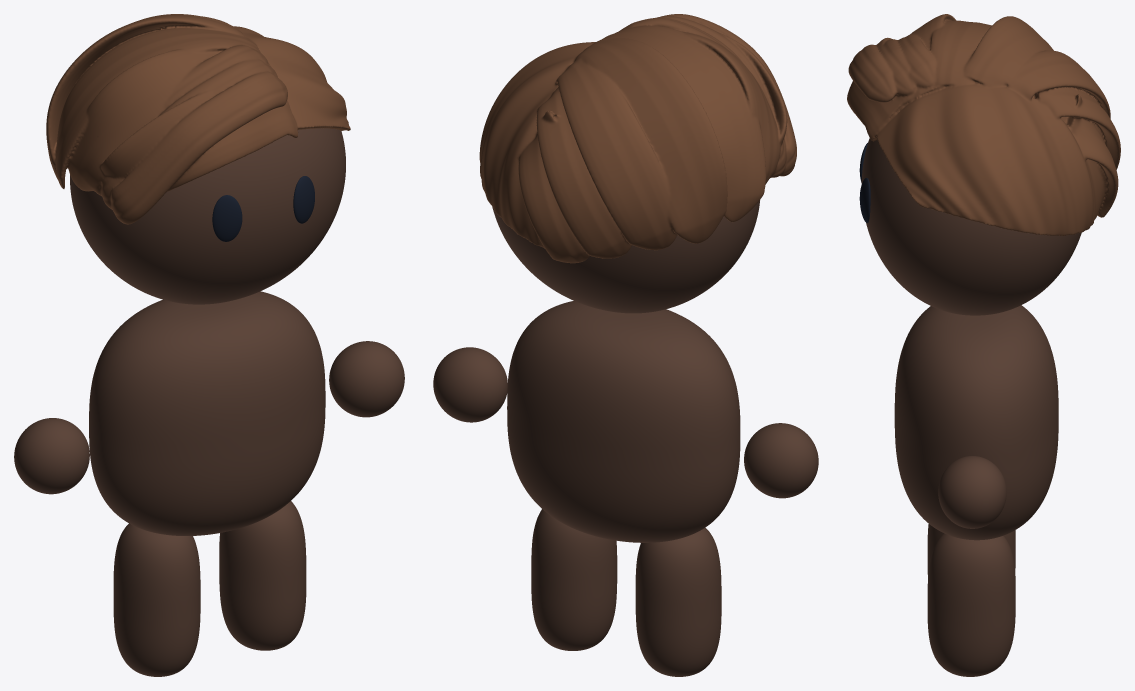
Rendered from Masculine-skin3.glb.
3 views of the same model, side by side, from view 1: azimuth 30°, elevation 25°; view 2: azimuth 150°, elevation 25°; view 3: azimuth 270°, elevation 25° (orthographic). The views are drawn at different scales.
Visible parts, largest first — view 1: Skin / compact torso, Hair / Side part blended sculpt, Skin / soft oval head, Skin / leg -1, Skin / leg 1, Skin / hand 1, Skin / hand -1, Eye / dark oval -1, Eye / dark oval 1; view 2: Hair / Side part blended sculpt, Skin / compact torso, Skin / soft oval head, Skin / leg -1, Skin / leg 1, Skin / hand 1, Skin / hand -1; view 3: Hair / Side part blended sculpt, Skin / compact torso, Skin / soft oval head, Skin / leg 1, Skin / hand 1, Skin / leg -1, Eye / dark oval 1.
Part boxes in pixels (x1=…): Skin / compact torso: x1=89, y1=291, x2=325, y2=535; Hair / Side part blended sculpt: x1=46, y1=14, x2=350, y2=224; Skin / soft oval head: x1=70, y1=128, x2=345, y2=304; Skin / leg -1: x1=113, y1=523, x2=200, y2=676; Skin / leg 1: x1=219, y1=501, x2=306, y2=650; Skin / hand 1: x1=329, y1=341, x2=404, y2=417; Skin / hand -1: x1=14, y1=418, x2=89, y2=494; Eye / dark oval -1: x1=212, y1=195, x2=242, y2=241; Eye / dark oval 1: x1=293, y1=176, x2=314, y2=223; Hair / Side part blended sculpt: x1=479, y1=14, x2=796, y2=263; Skin / compact torso: x1=507, y1=301, x2=740, y2=542; Skin / soft oval head: x1=492, y1=200, x2=759, y2=313; Skin / leg -1: x1=635, y1=527, x2=721, y2=676; Skin / leg 1: x1=531, y1=509, x2=617, y2=650; Skin / hand 1: x1=433, y1=347, x2=507, y2=422; Skin / hand -1: x1=744, y1=423, x2=818, y2=498; Hair / Side part blended sculpt: x1=847, y1=14, x2=1120, y2=235; Skin / compact torso: x1=894, y1=305, x2=1058, y2=540; Skin / soft oval head: x1=861, y1=138, x2=1081, y2=315; Skin / leg 1: x1=927, y1=533, x2=1015, y2=676; Skin / hand 1: x1=938, y1=456, x2=1006, y2=528; Skin / leg -1: x1=927, y1=524, x2=1015, y2=576; Eye / dark oval 1: x1=859, y1=178, x2=870, y2=223.
Size of the model in its own units: 1.49 by 2.38 by 0.9751.
